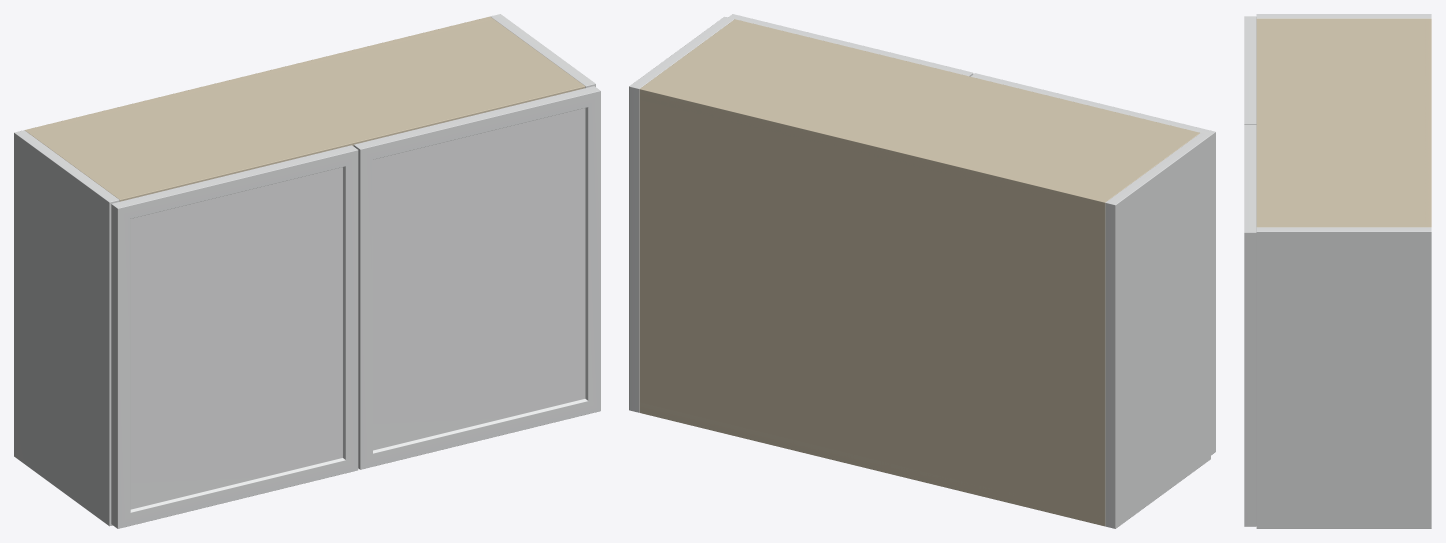
File: oppein-ply-ssw-w3321.glb
3 views of the same model, side by side, from view 1: azimuth 30°, elevation 25°; view 2: azimuth 150°, elevation 25°; view 3: azimuth 270°, elevation 25° (orthographic). The views are drawn at different scales.
Visible parts, largest first — view 1: Door, Door.001, Cabinet top, Cabinet side, Cabinet back, Cabinet side.001; view 2: Cabinet back, Cabinet top, Cabinet side, Cabinet side.001, Cabinet bottom, Door, Door.001; view 3: Cabinet side.001, Cabinet top, Door.001, Cabinet back, Door, Cabinet side.
Part boxes in pixels (x1,y1,x2,y2): Door: [111, 145, 358, 528]; Door.001: [353, 86, 600, 469]; Cabinet top: [25, 19, 585, 201]; Cabinet side: [14, 130, 119, 526]; Cabinet back: [25, 16, 493, 132]; Cabinet side.001: [490, 14, 595, 87]; Cabinet back: [639, 86, 1108, 526]; Cabinet top: [639, 19, 1199, 210]; Cabinet side: [1105, 133, 1210, 528]; Cabinet side.001: [629, 16, 734, 412]; Cabinet bottom: [639, 402, 1102, 524]; Door: [971, 73, 1215, 455]; Door.001: [728, 14, 973, 76]; Cabinet side.001: [1256, 227, 1431, 528]; Cabinet top: [1256, 18, 1431, 227]; Door.001: [1244, 125, 1256, 526]; Cabinet back: [1424, 18, 1431, 227]; Door: [1244, 16, 1256, 124]; Cabinet side: [1256, 14, 1431, 18].
Bounding box in the file's own units: 0.8382 × 0.5334 × 0.3048.
